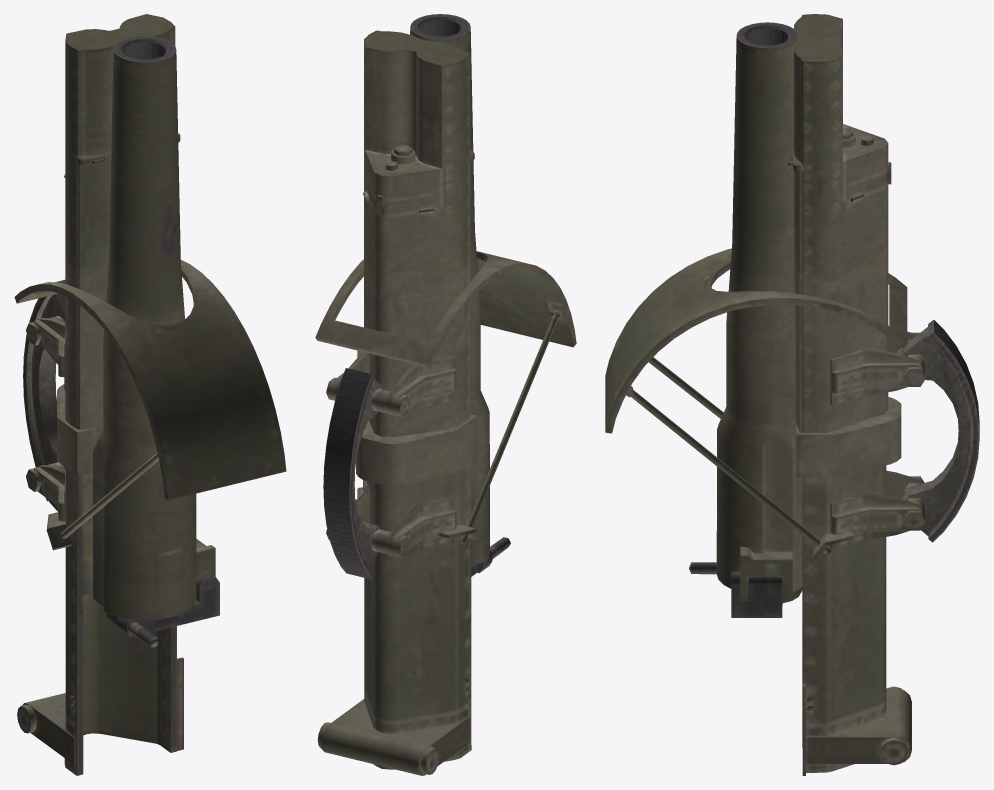
Rendered from Gun_03.glb.
3 renders of one model, left to right at view 1: azimuth 30°, elevation 25°; view 2: azimuth 150°, elevation 25°; view 3: azimuth 270°, elevation 25°, orthographic. The views are drawn at different scales.
Visible parts, largest first — view 1: set_0_group_0; view 2: set_0_group_0; view 3: set_0_group_0.
Boxes of the visible parts, <box> form: set_0_group_0: <box>14,14,286,775</box>; set_0_group_0: <box>315,14,576,775</box>; set_0_group_0: <box>605,14,979,775</box>.
Size of the model in its own units: 0.438 by 2.27 by 1.08.
1 material, 1 textured.
